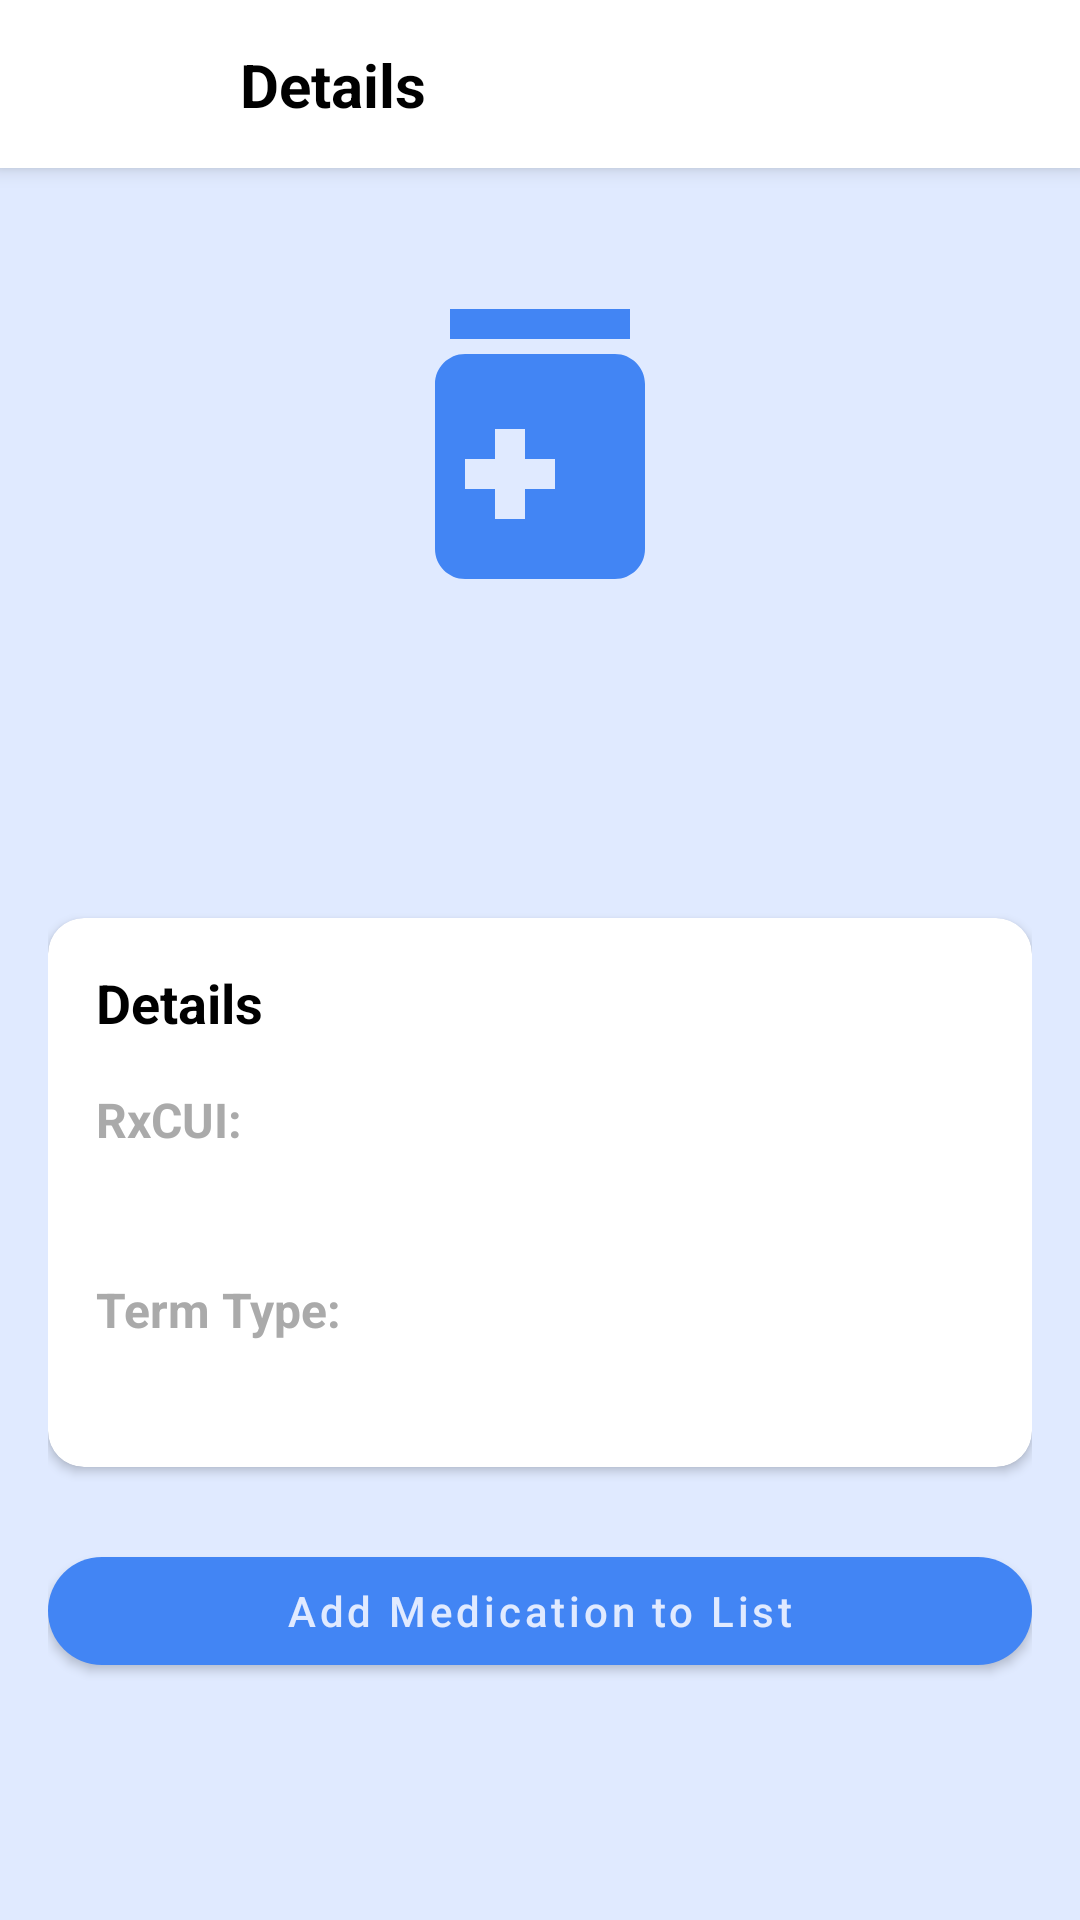

Locate icon controls on the screen. Image size 1080px×1920px, boxes as (x1,y1,x2,y2).
medication: (435,309,645,579)
